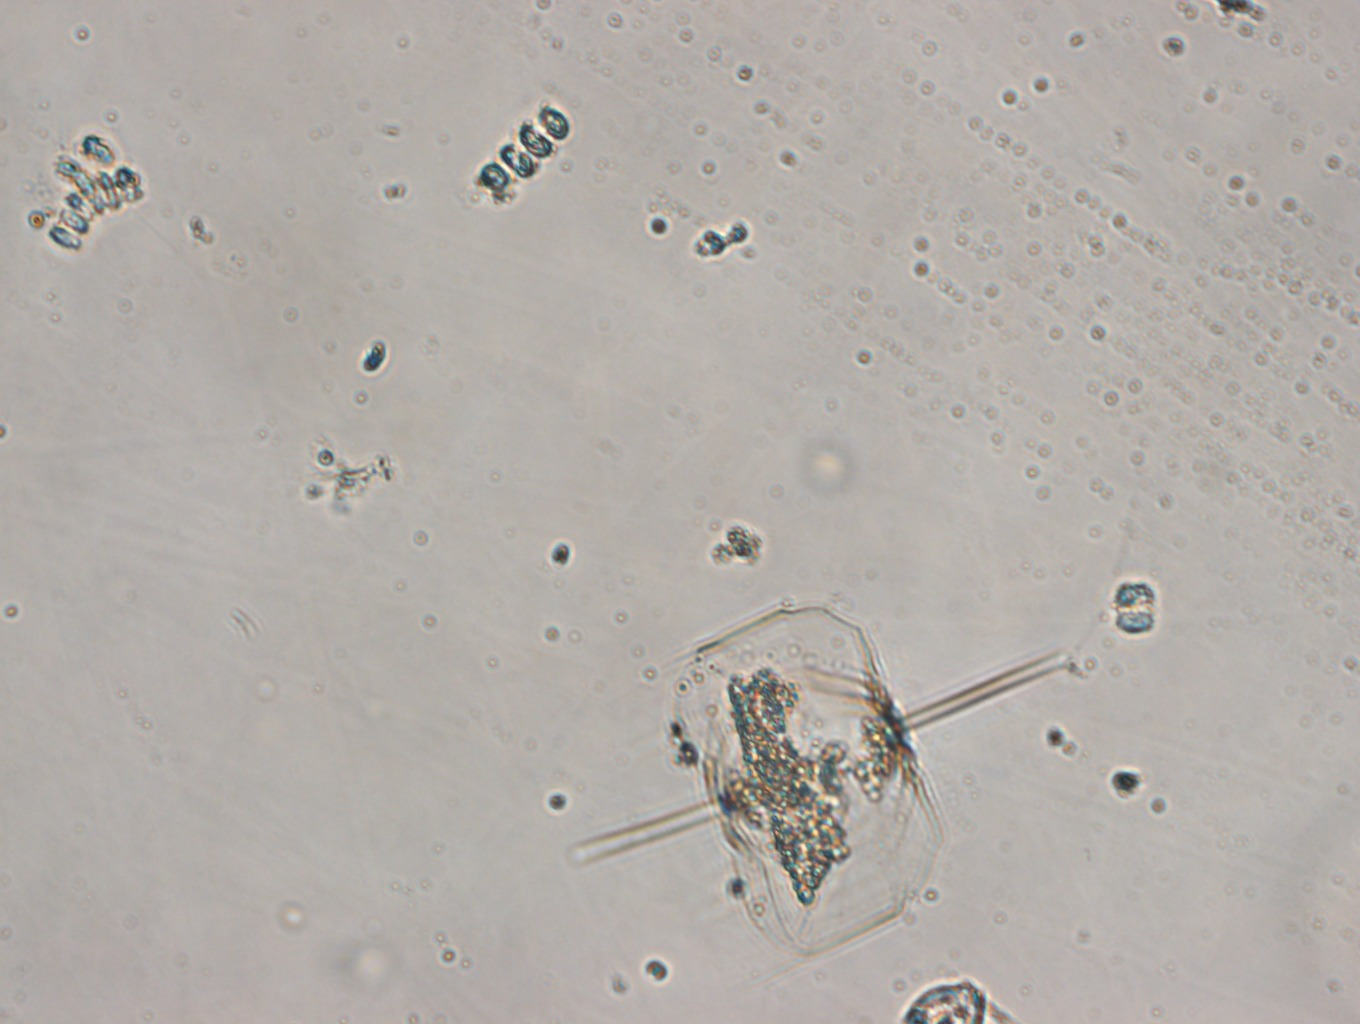ditylum: (563, 599, 1077, 959)
skeletonema: (472, 99, 572, 202), (46, 158, 149, 255)
